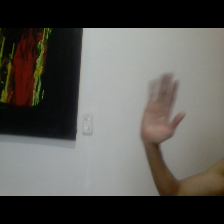left: (133, 70, 191, 150)
